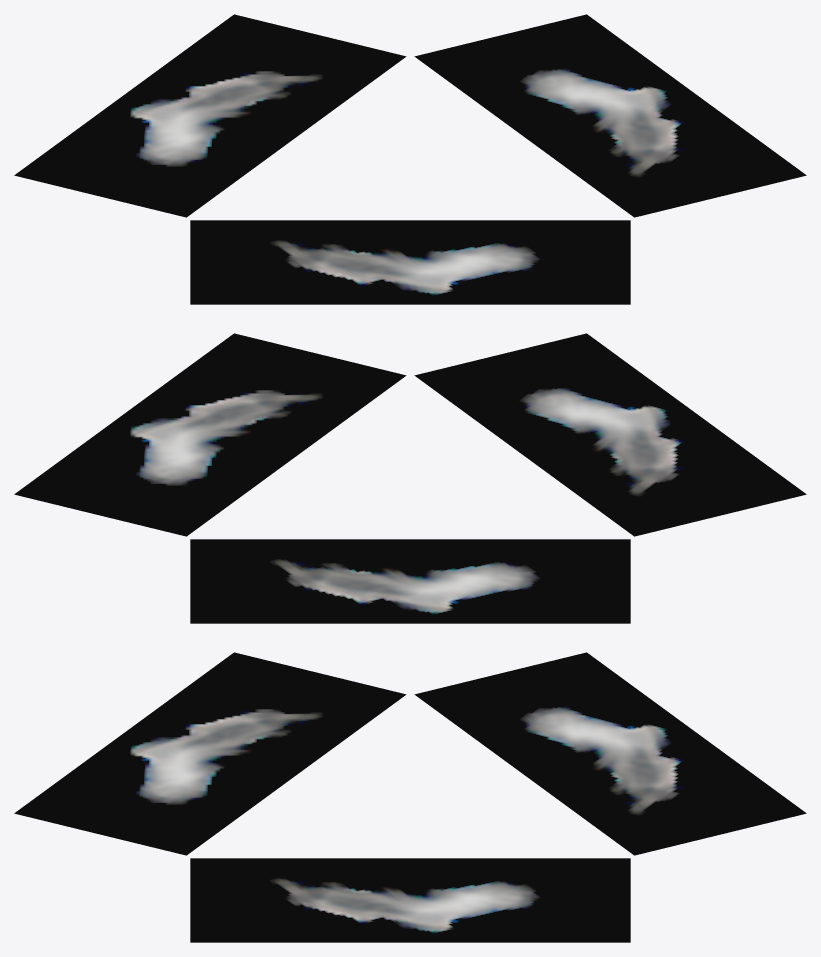
Rendered from yanwuquan.FBX.
3 renders of one model, top to bottom at view 1: azimuth 30°, elevation 25°; view 2: azimuth 150°, elevation 25°; view 3: azimuth 270°, elevation 25°, orthographic.
Parts seen in each view (by area): view 1: Plane003, Plane002, Plane001; view 2: Plane002, Plane003, Plane001; view 3: Plane001, Plane002, Plane003.
Boxes of the visible parts, bbox=[...] form: Plane003: bbox=[190, 220, 630, 304]; Plane002: bbox=[14, 14, 406, 217]; Plane001: bbox=[414, 14, 806, 217]; Plane002: bbox=[190, 539, 630, 623]; Plane003: bbox=[414, 333, 806, 536]; Plane001: bbox=[14, 333, 406, 536]; Plane001: bbox=[190, 858, 630, 942]; Plane002: bbox=[414, 652, 806, 855]; Plane003: bbox=[14, 652, 406, 855].
Bounding box in the file's own units: 28.32 × 2.46e-06 × 32.7.
1 material, 1 textured.
